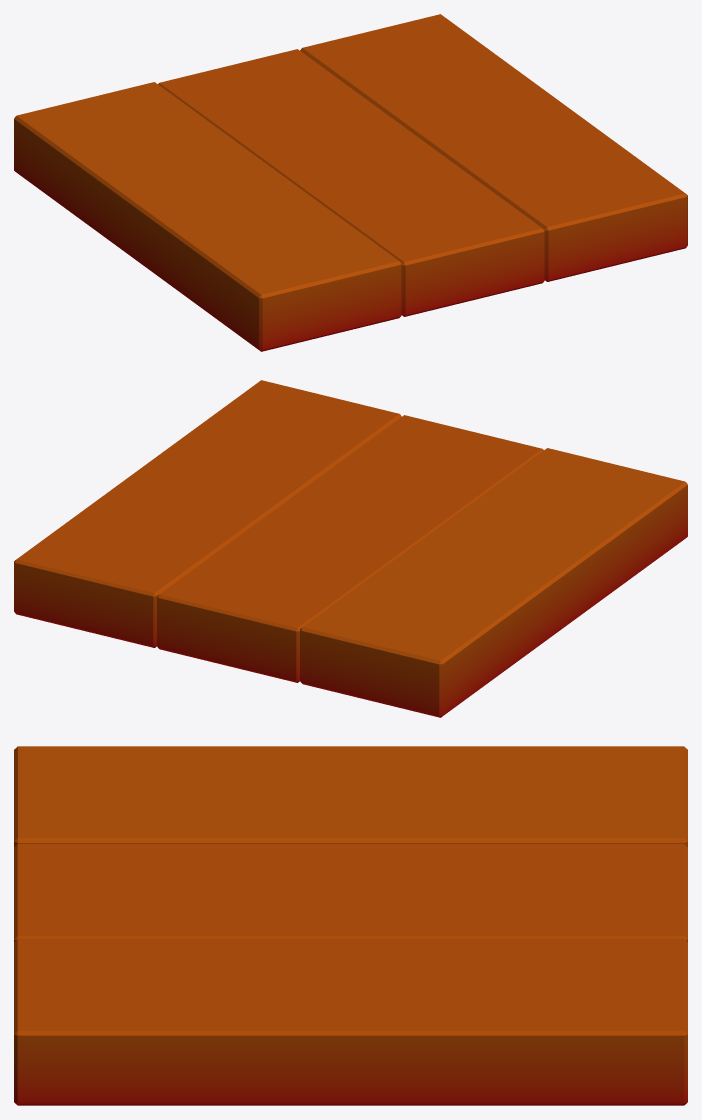
File: floor_slab_broken.glb
The picture shows the model from 3 angles, top to bottom: view 1: azimuth 30°, elevation 25°; view 2: azimuth 150°, elevation 25°; view 3: azimuth 270°, elevation 25°; orthographic projection. The views are drawn at different scales.
Parts seen in each view (by area): view 1: floor_slab_broken; view 2: floor_slab_broken; view 3: floor_slab_broken.
Boxes of the visible parts, x1,y1,x2,y2 form: floor_slab_broken: [14, 14, 687, 351]; floor_slab_broken: [14, 380, 687, 717]; floor_slab_broken: [14, 746, 687, 1105].
Size of what is drawn, in the model's own units: 2 by 0.2539 by 2.
